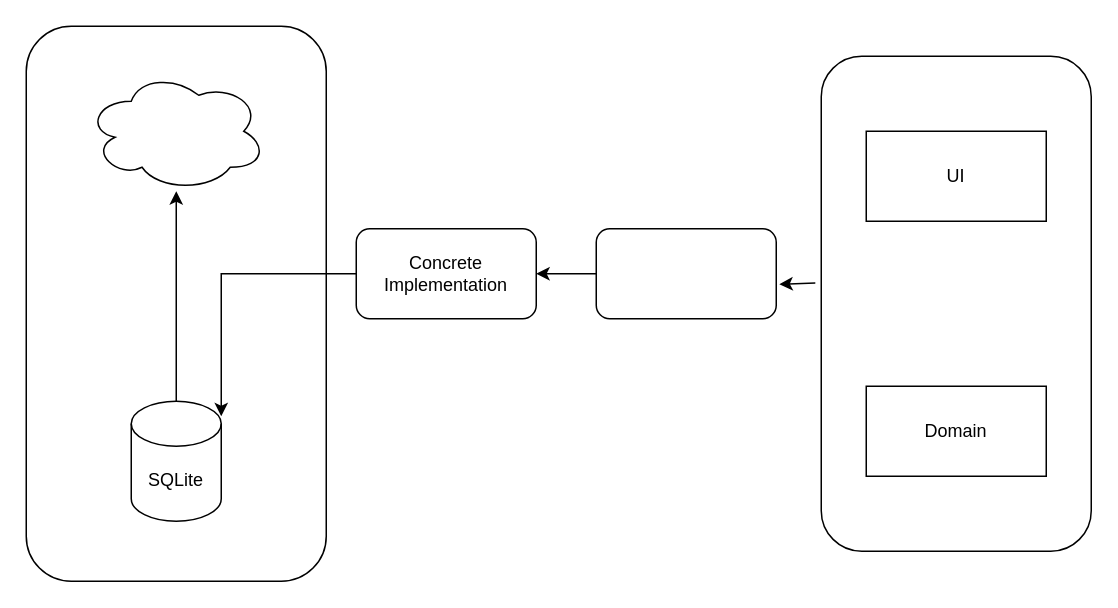
The diagram is 1118 pixels wide and 608 high, and some of its shapes have lost their labels. Here are the shapes that lost their labels. From the top down, the box of each, then its label:
(85, 70, 266, 191): server
(595, 227, 776, 319): Interface
